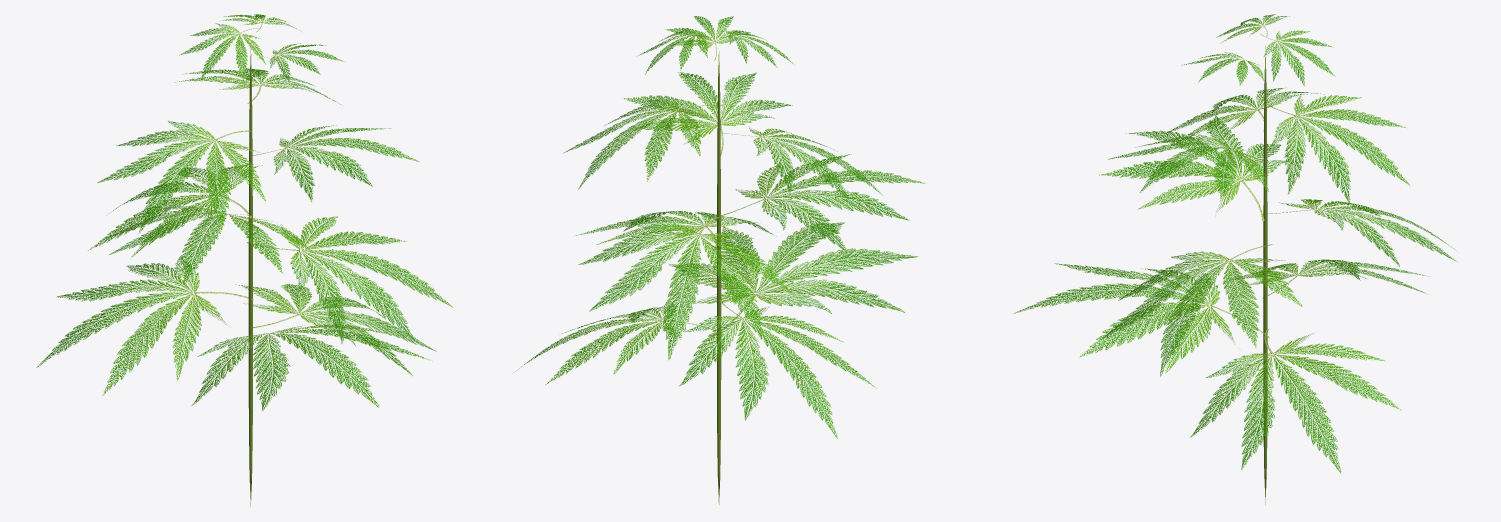
File: Ganja.fbx
3 renders of one model, left to right at view 1: azimuth 30°, elevation 25°; view 2: azimuth 150°, elevation 25°; view 3: azimuth 270°, elevation 25°, orthographic.
Parts seen in each view (by area): view 1: ganja.pohon; view 2: ganja.pohon; view 3: ganja.pohon.
Boxes of the visible parts, x1,y1,x2,y2 form: ganja.pohon: (36, 14, 453, 506); ganja.pohon: (515, 16, 925, 504); ganja.pohon: (1013, 14, 1458, 504).
Size of the model in its own units: 500 by 619 by 589.
